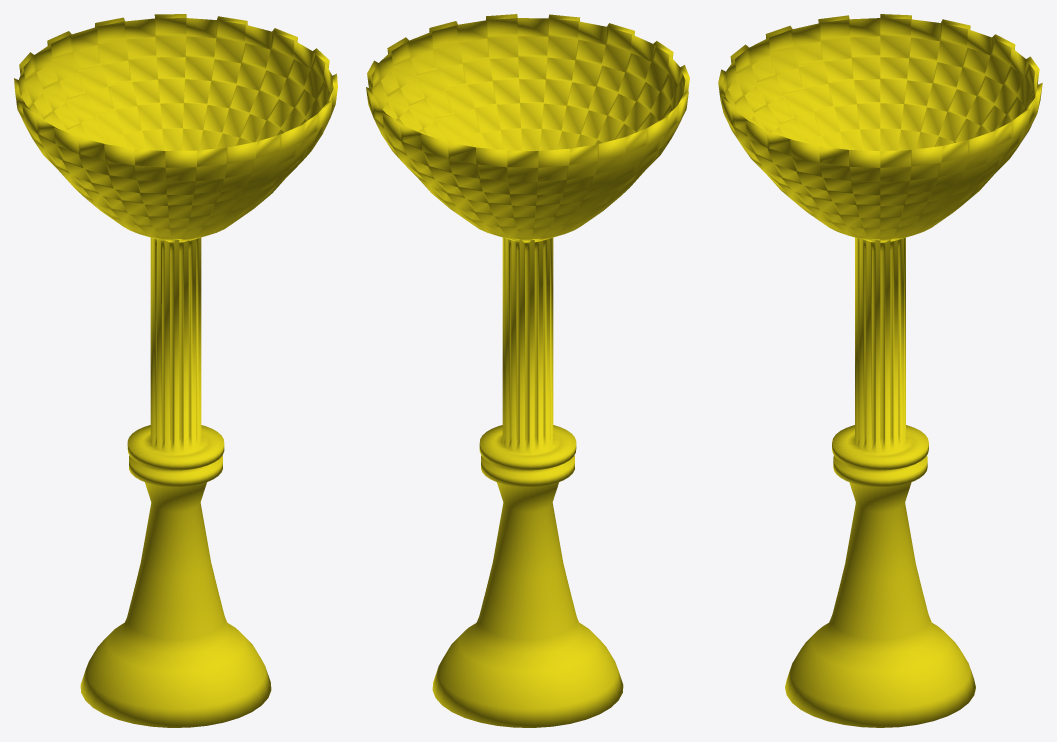
File: cup.fbx
The picture shows the model from 3 angles, left to right: view 1: azimuth 30°, elevation 25°; view 2: azimuth 150°, elevation 25°; view 3: azimuth 270°, elevation 25°; orthographic projection.
Parts seen in each view (by area): view 1: Sphere; view 2: Sphere; view 3: Sphere.
Boxes of the visible parts, left/top/right/bottom form: Sphere: left=14, top=14, right=337, bottom=727; Sphere: left=366, top=14, right=689, bottom=727; Sphere: left=718, top=14, right=1042, bottom=727.
Bounding box in the file's own units: 797 × 1639 × 797.
